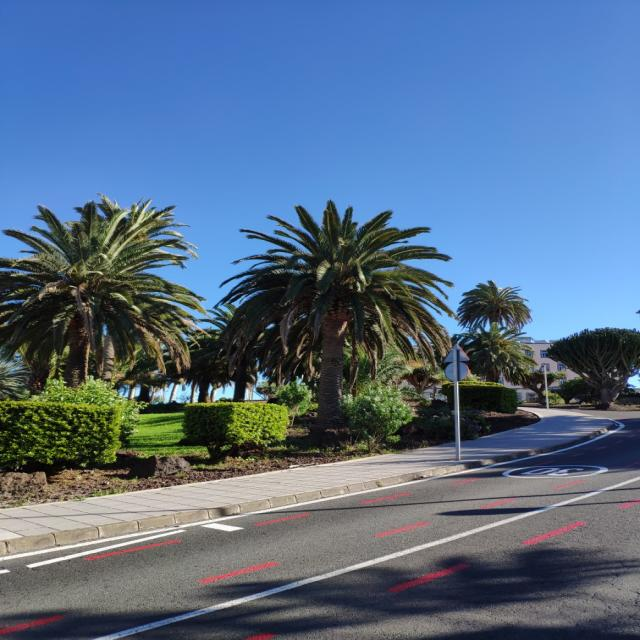Palm-Trees: (234, 202, 440, 418), (0, 206, 174, 392), (456, 278, 534, 334)
